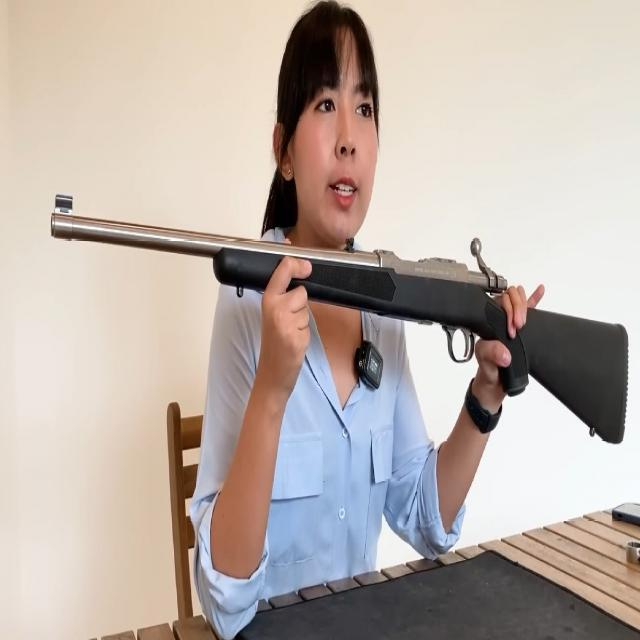rifle: (39, 184, 630, 461)
